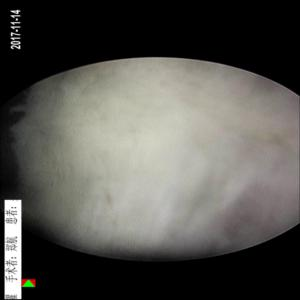film: (88, 89, 152, 156)
